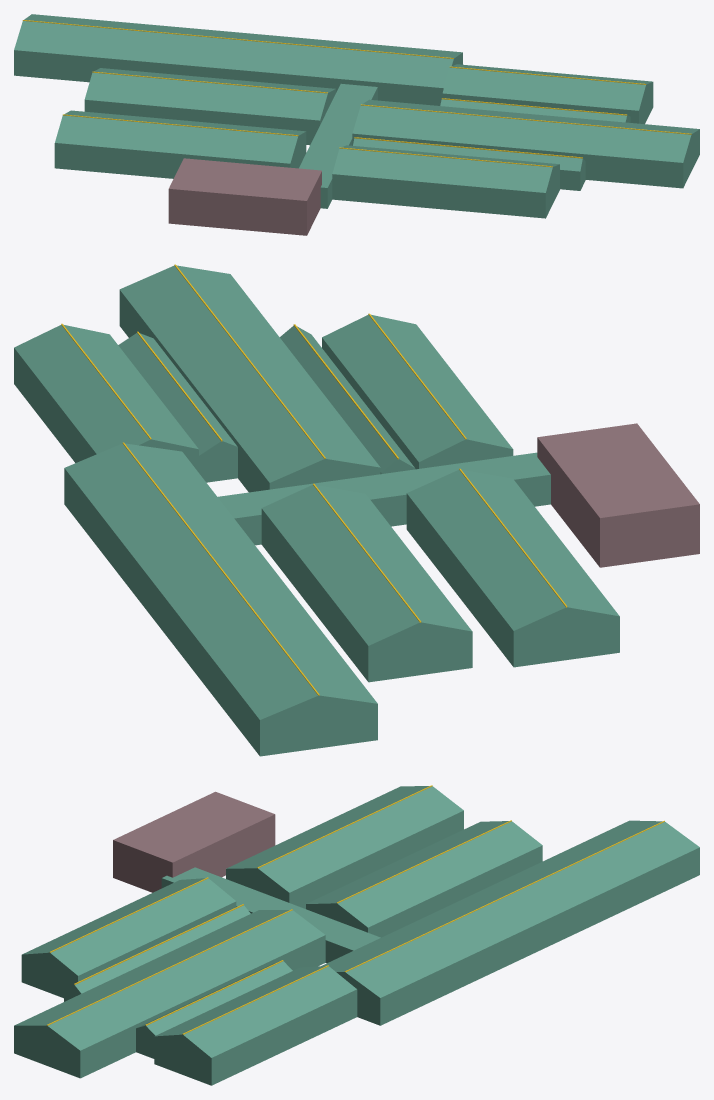
The model's file is br_b254_muttart_conservatory.gltf.
The picture shows the model from 3 angles, top to bottom: view 1: azimuth 30°, elevation 25°; view 2: azimuth 150°, elevation 25°; view 3: azimuth 270°, elevation 25°; orthographic projection. The views are drawn at different scales.
Parts seen in each view (by area): view 1: br_b254_muttart_conservatory; view 2: br_b254_muttart_conservatory; view 3: br_b254_muttart_conservatory.
Boxes of the visible parts, box(x1,y1,x2,y2) form: br_b254_muttart_conservatory: box(14, 14, 699, 235); br_b254_muttart_conservatory: box(14, 264, 699, 756); br_b254_muttart_conservatory: box(14, 785, 699, 1085).
Size of the model in its own units: 115 by 8.1 by 123.
